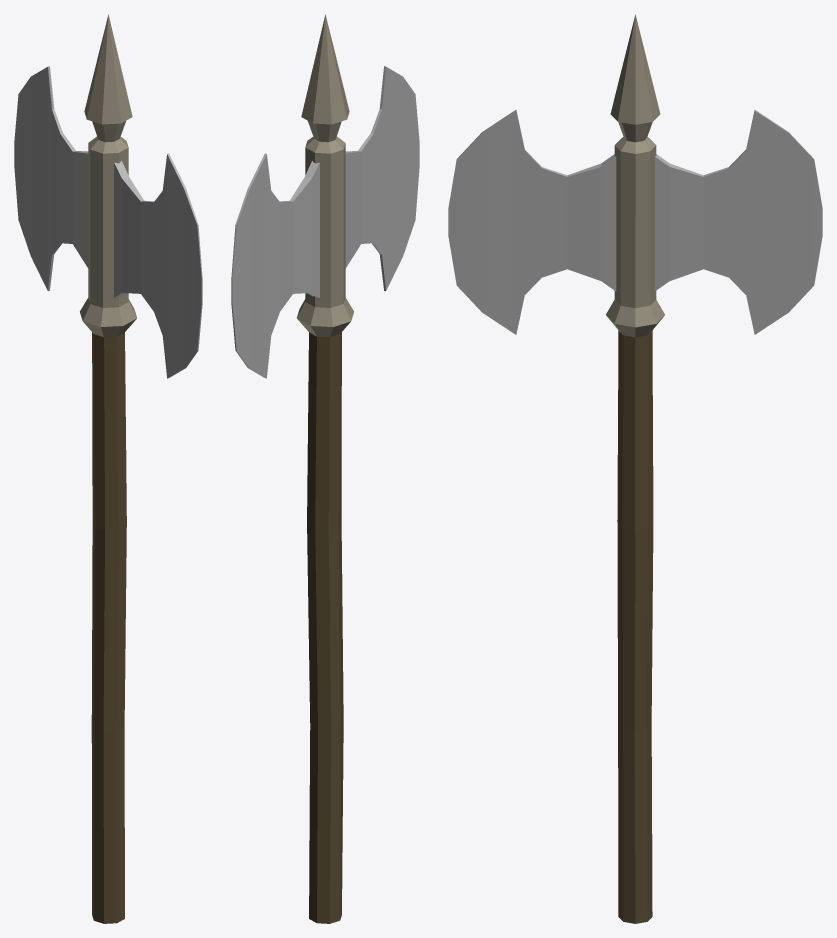
The model's file is battle_axe.fbx.
3 renders of one model, left to right at view 1: azimuth 30°, elevation 25°; view 2: azimuth 150°, elevation 25°; view 3: azimuth 270°, elevation 25°, orthographic.
Parts seen in each view (by area): view 1: Cylinder.006; view 2: Cylinder.006; view 3: Cylinder.006.
Boxes of the visible parts, <box> form: Cylinder.006: <box>14,14,202,923</box>; Cylinder.006: <box>231,14,419,923</box>; Cylinder.006: <box>448,14,822,923</box>.
Bounding box in the file's own units: 0.07 × 1.17 × 0.44.
